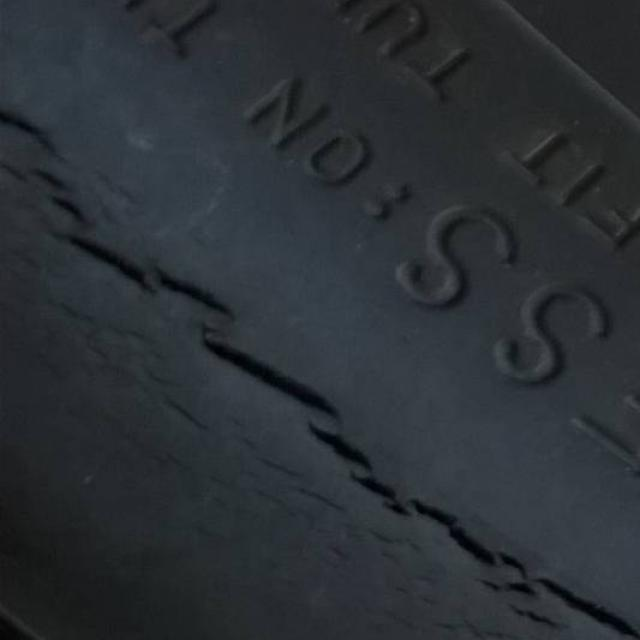Cracks: (0, 67, 639, 639)
